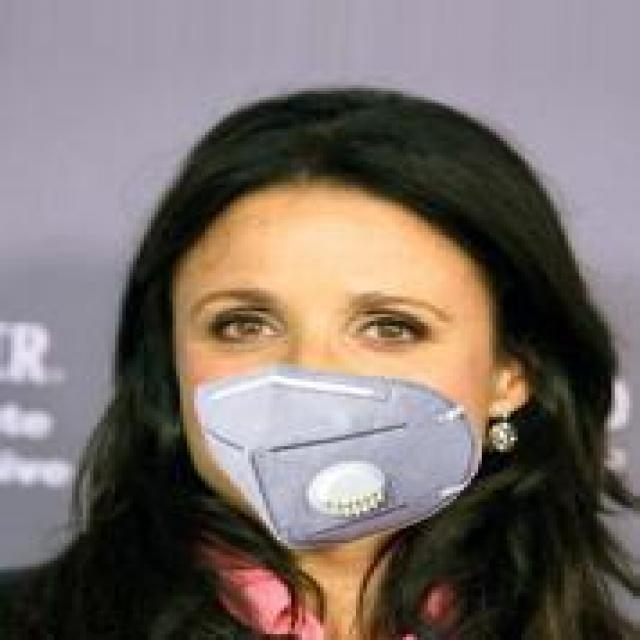mask: (130, 79, 564, 567)
